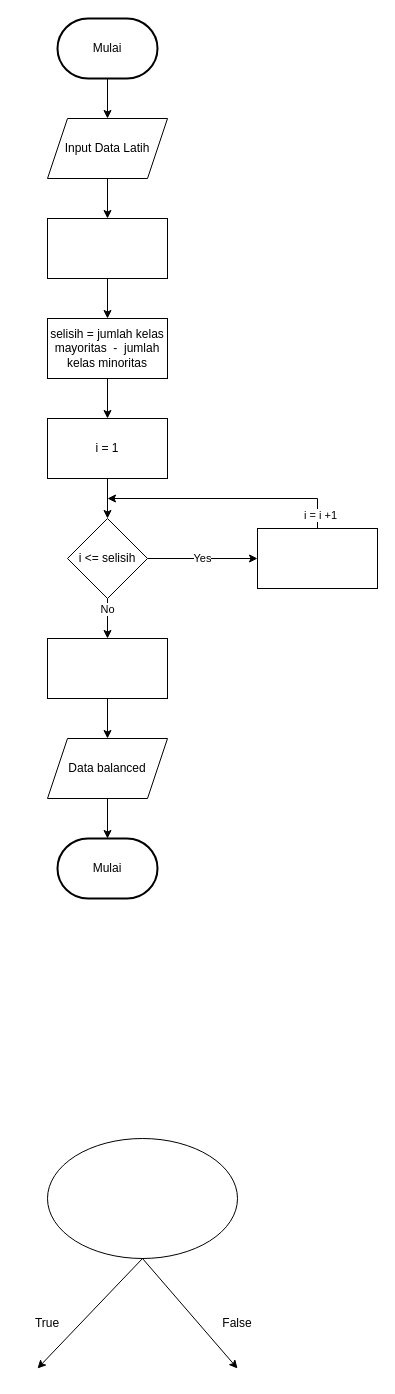
Some shapes in this 395 by 1394 pixel diagram are drawn without their labels. The shapes that lost their labels are listed below. From the top down, each one's box as (x1, y1, x2, y2) in pixels, then its label:
(46, 218, 168, 278): Hitung jumlah data pada kelas mayoritas dan minoritas
(256, 528, 378, 588): baca data minoritas dengan acak dan tambahkan ke data latih
(46, 638, 168, 698): acak data latih
(46, 1138, 238, 1258): Root Count (-) <= 4 Entropy = 0.995 Value = [4,4,4,4]
